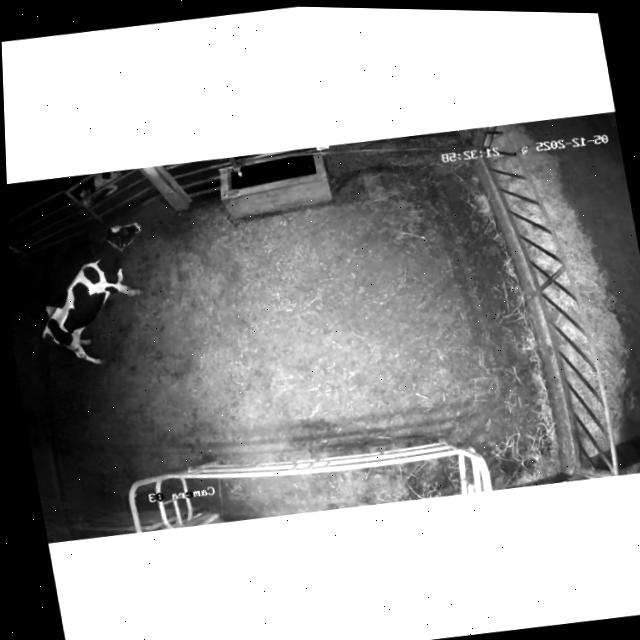stand: (42, 221, 141, 363)
